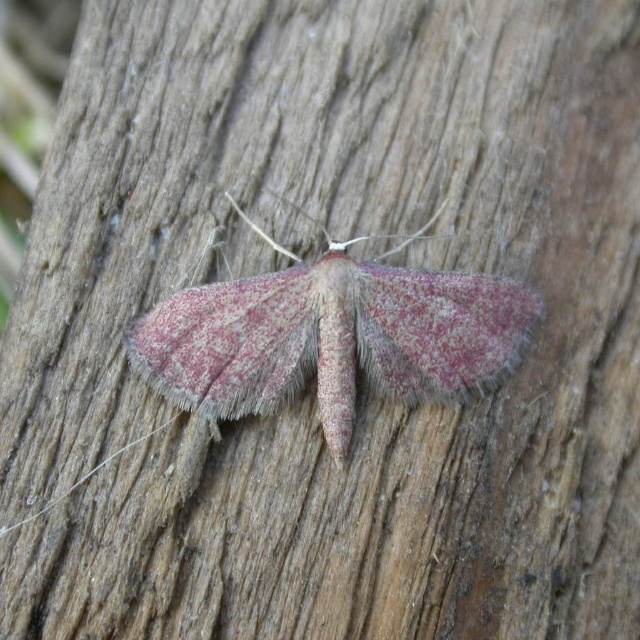Moths and butterflies: (121, 189, 550, 475)
